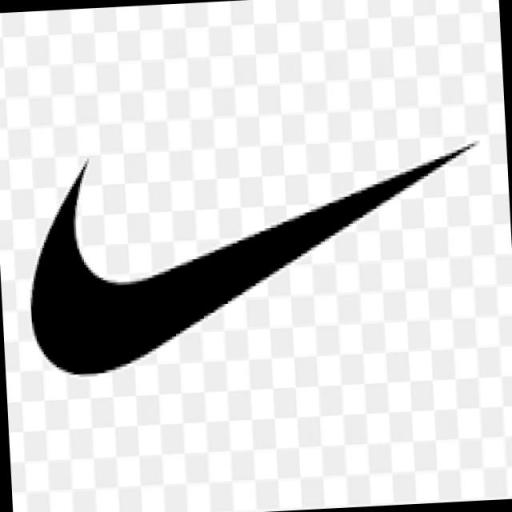Nike: (18, 124, 498, 388)
